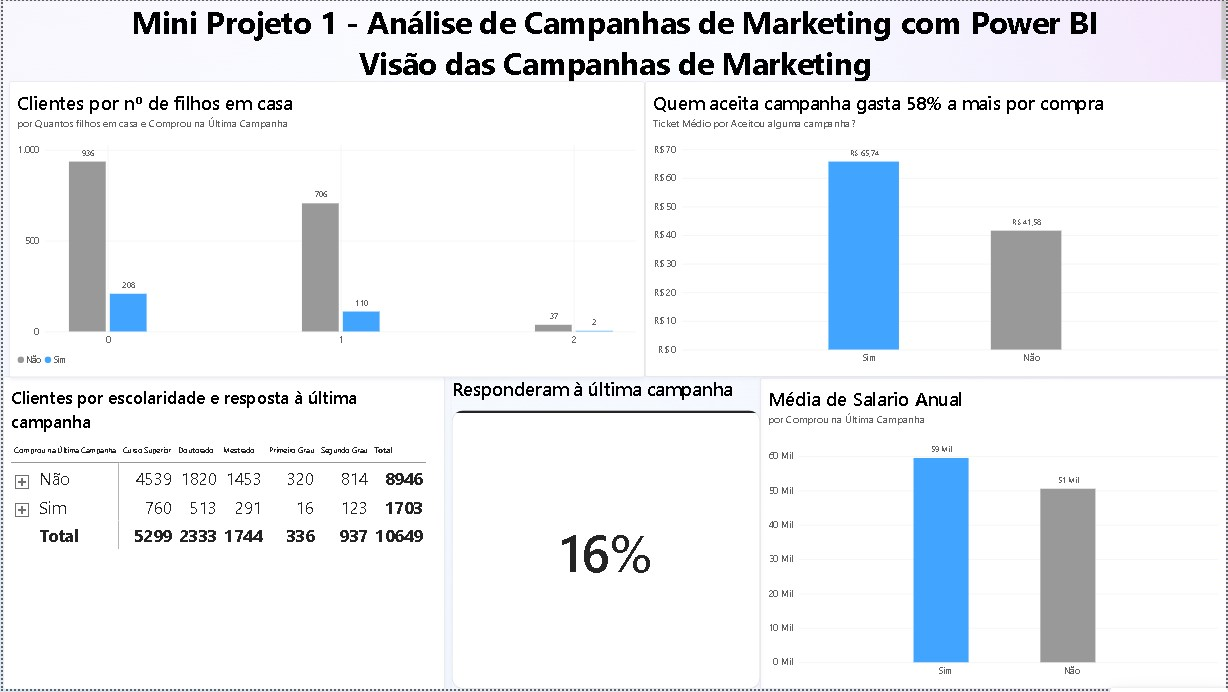

Layout of this report page (visuals, bound fields, positions):
{"tool":"powerbi","page":{"name":"Visão das Campanhas","canvas":[1920,1080],"ordinal":2},"visuals":[{"type":"textbox","box":[10.2,0,1910,126],"z":0},{"type":"clusteredColumnChart","fields":{"Category":["DadosMarketing.Comprou na Última Campanha"],"Y":["Avg(DadosMarketing.Salario Anual)"]},"box":[1188.7,590.7,731.7,488.6],"z":1000},{"type":"pivotTable","title":"Clientes por escolaridade e resposta à última campanha","fields":{"Columns":["DadosMarketing.Escolaridade"],"Rows":["DadosMarketing.Comprou na Última Campanha","DadosMarketing.Estado Civil","DadosMarketing.Pais"],"Values":["Sum(DadosMarketing.Numero Visitas WebSite Mes)"]},"box":[0,590,693.1,491],"z":2000},{"type":"clusteredColumnChart","fields":{"Category":["DadosMarketing.Filhos em Casa"],"Series":["DadosMarketing.Comprou na Última Campanha"],"Y":["CountNonNull(DadosMarketing.Filhos em Casa)"]},"box":[9.6,126.7,997.3,464],"z":3000},{"type":"clusteredColumnChart","title":"Quem aceita campanha gasta 58% a mais por compra","fields":{"Category":["DadosMarketing.Aceitou Campanha"],"Y":["DadosMarketing.Ticket Médio"]},"box":[1007,127,913,463],"z":4000},{"type":"cardVisual","title":"Responderam à última campanha","fields":{"Data":["DadosMarketing.% Conversão"]},"box":[703.5,587.9,484.8,493],"z":4001}]}

Visuals, with their boxes in screenshot pixels (x1, y1, x2, y2), scaled from the page's 1920x1080 canvas onto the 1228x692 screenshot:
textbox: x1=7, y1=0, x2=1227, y2=81
clusteredColumnChart - DadosMarketing.Comprou na Última Campanha x Avg(DadosMarketing.Salario Anual): x1=760, y1=378, x2=1227, y2=691
"Clientes por escolaridade e resposta à última campanha" pivotTable: x1=0, y1=378, x2=443, y2=691
clusteredColumnChart - DadosMarketing.Filhos em Casa x DadosMarketing.Comprou na Última Campanha: x1=6, y1=81, x2=644, y2=378
"Quem aceita campanha gasta 58% a mais por compra" clusteredColumnChart: x1=644, y1=81, x2=1227, y2=378
"Responderam à última campanha" cardVisual: x1=450, y1=377, x2=760, y2=691
